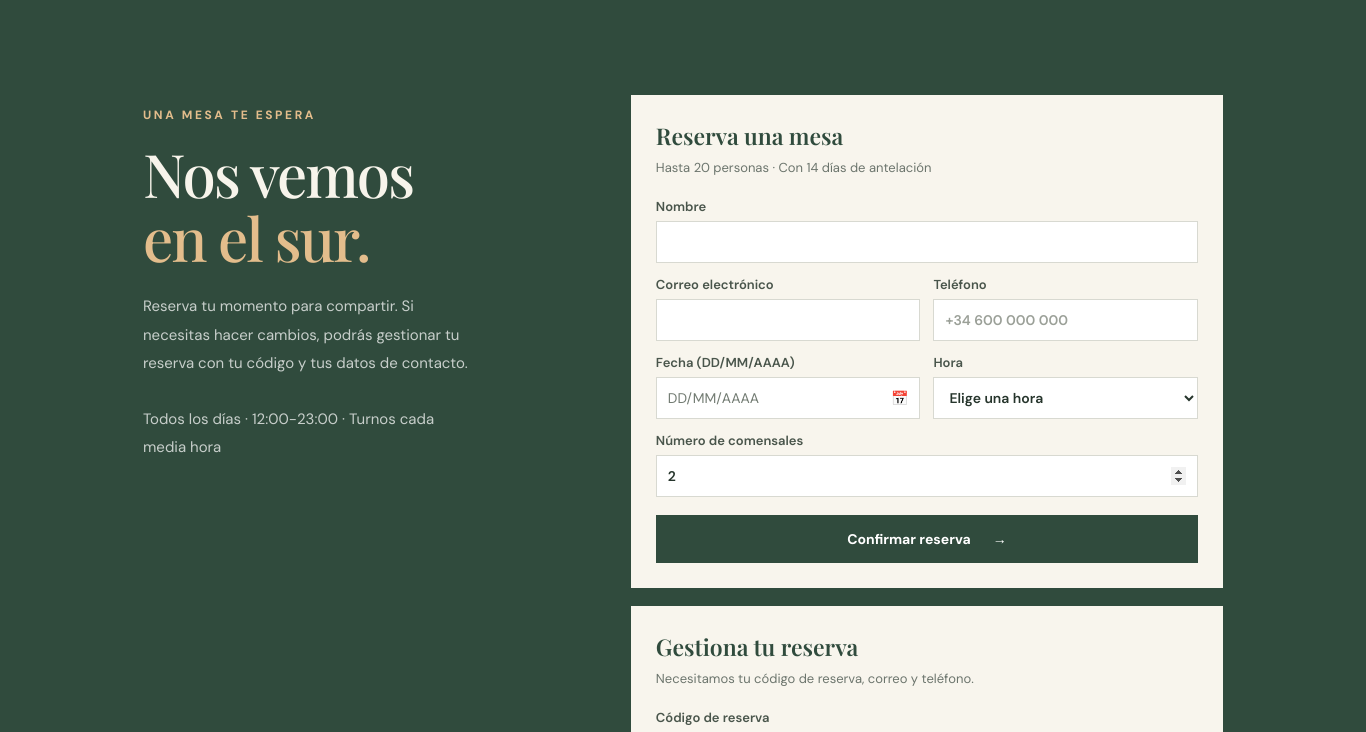
Test: Spanish date calendar › shows a Spanish calendar with only the 14 bookable days enabled
Click the button with class "date-trigger" at (713, 398), box 656,377 -> 920,419
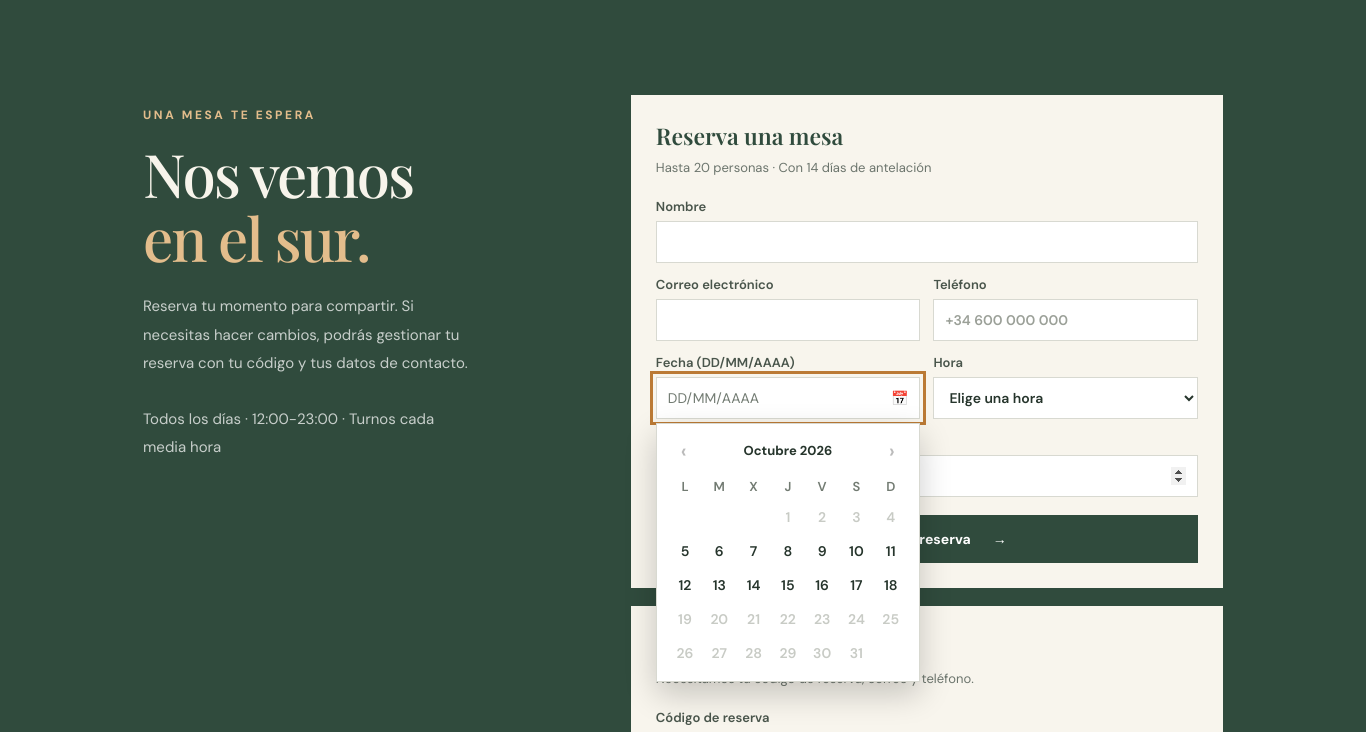
Now the button named "Mes anterior" is disabled, box 669,436 -> 699,466
